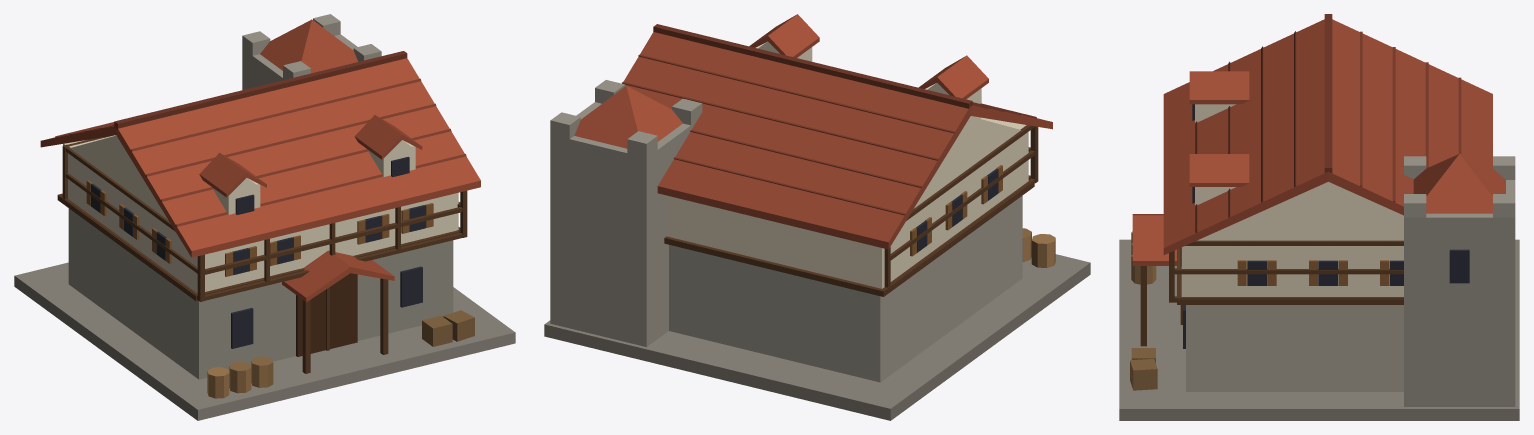
File: town_center.glb
3 views of the same model, side by side, from view 1: azimuth 30°, elevation 25°; view 2: azimuth 150°, elevation 25°; view 3: azimuth 270°, elevation 25° (orthographic). The views are drawn at different scales.
Parts seen in each view (by area): view 1: town_center; view 2: town_center; view 3: town_center.
Boxes of the visible parts, box(x1,y1,x2,y2) form: town_center: box(14, 14, 515, 420); town_center: box(544, 14, 1090, 420); town_center: box(1119, 14, 1519, 420).
Size of the model in its own units: 9 by 6.08 by 9.
Materials: 1 (1 with a texture image).
